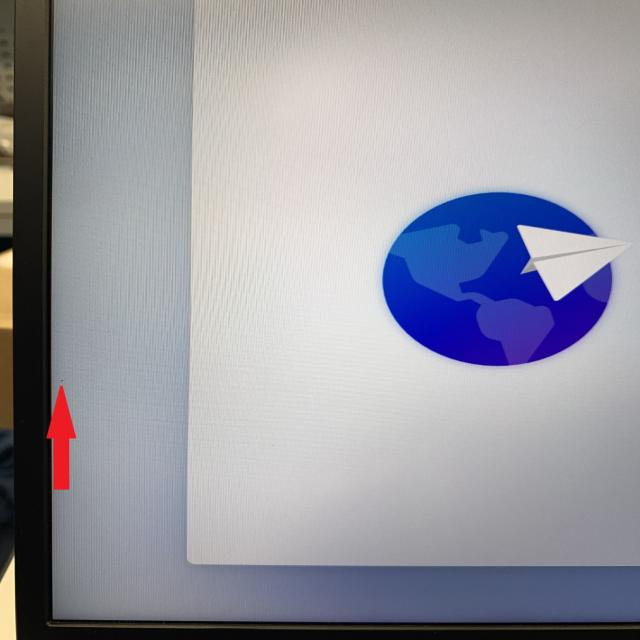Dead pixel: (61, 380, 63, 382)
